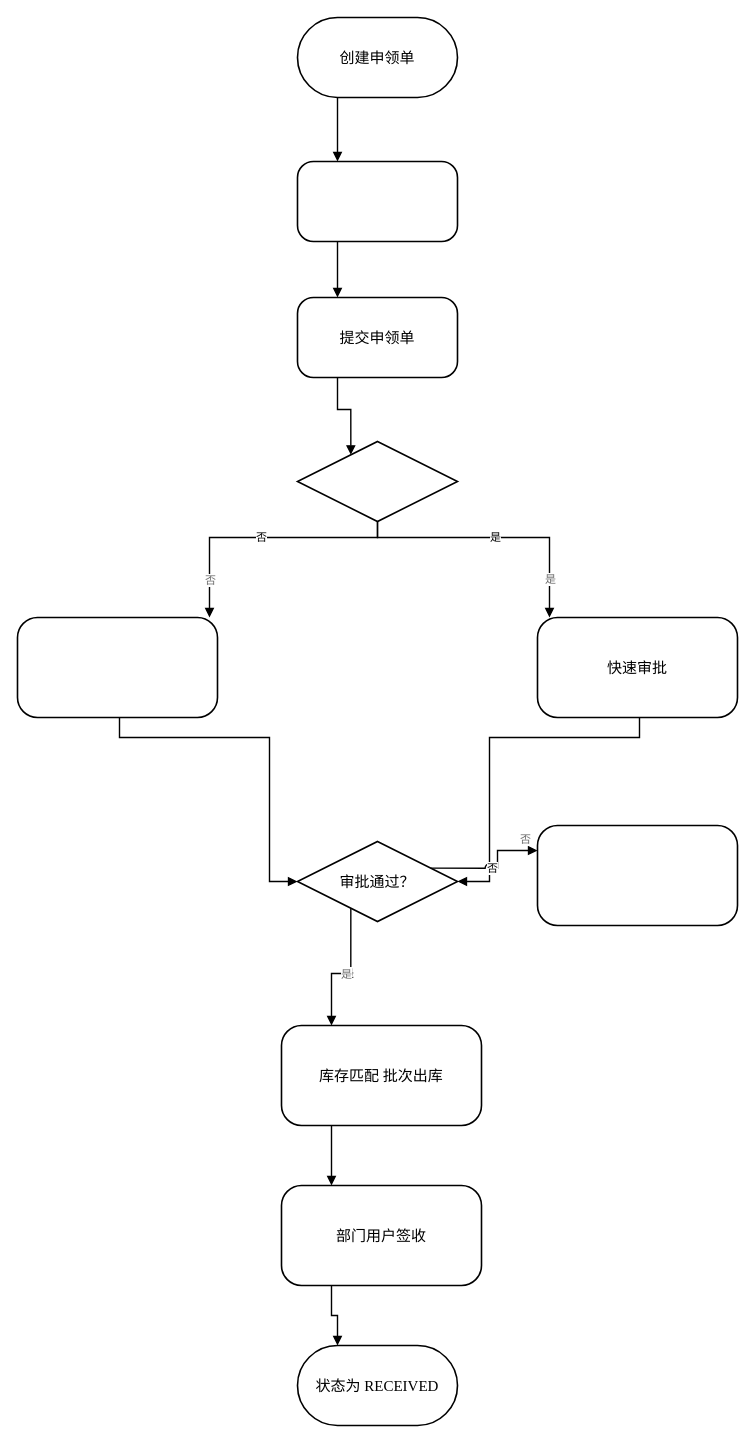
Some shapes in this 756 by 1444 pixel diagram are drawn without their labels. Here are the shapes that lost their labels. From the top down, the centre of each, then its label:
the point at 377,201: 保存草稿
the point at 377,481: 紧急等级≥2？
the point at 117,667: 审批人审核
the point at 637,875: 驳回并记录意见
